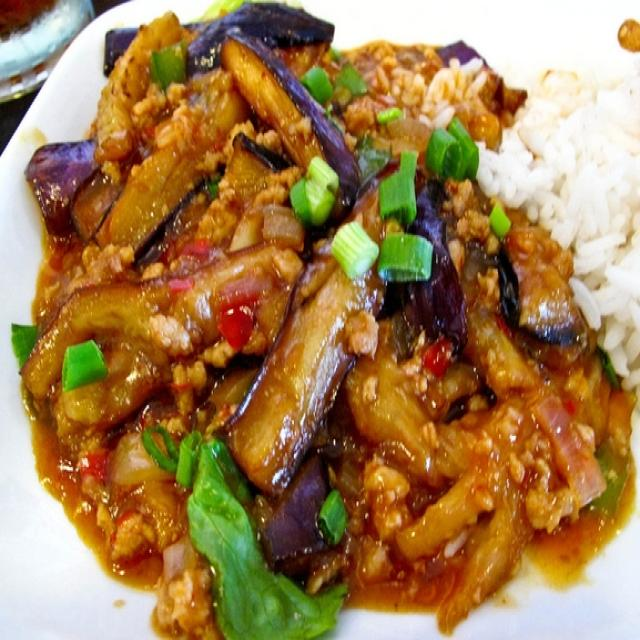鸡蛋料理: (28, 10, 623, 621)
